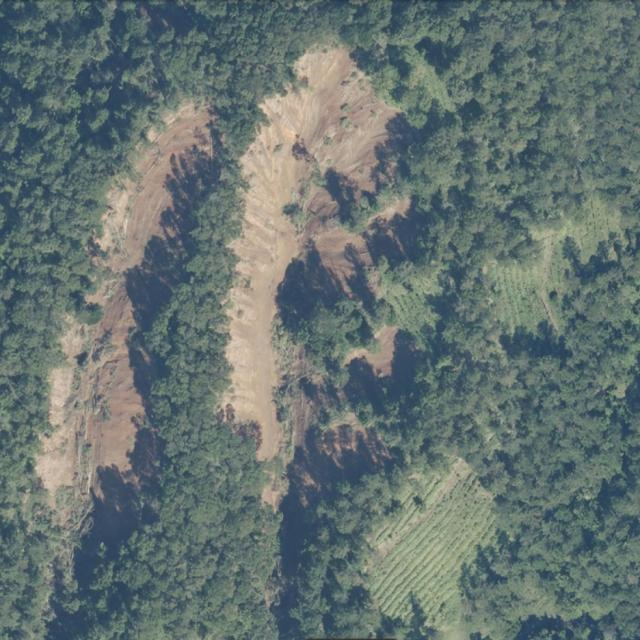landslide: (34, 103, 213, 596), (222, 47, 399, 462)
